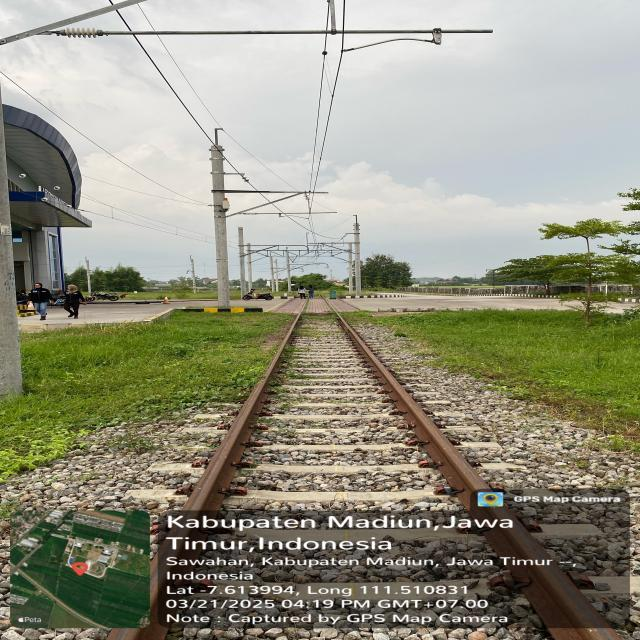rail-detection: (340, 319, 619, 640), (150, 315, 299, 640)
